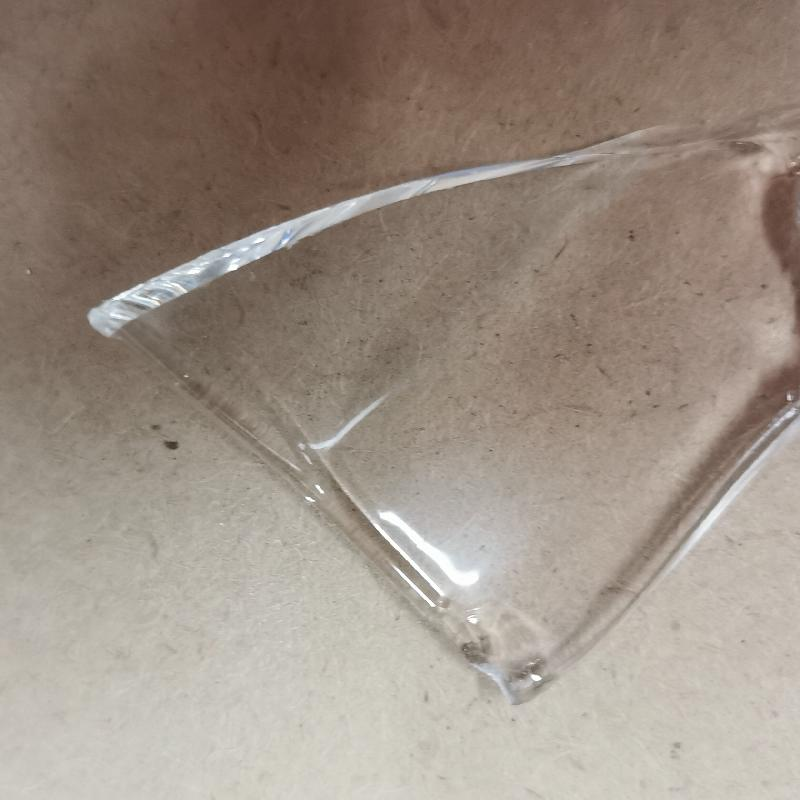glass: (86, 116, 799, 707)
